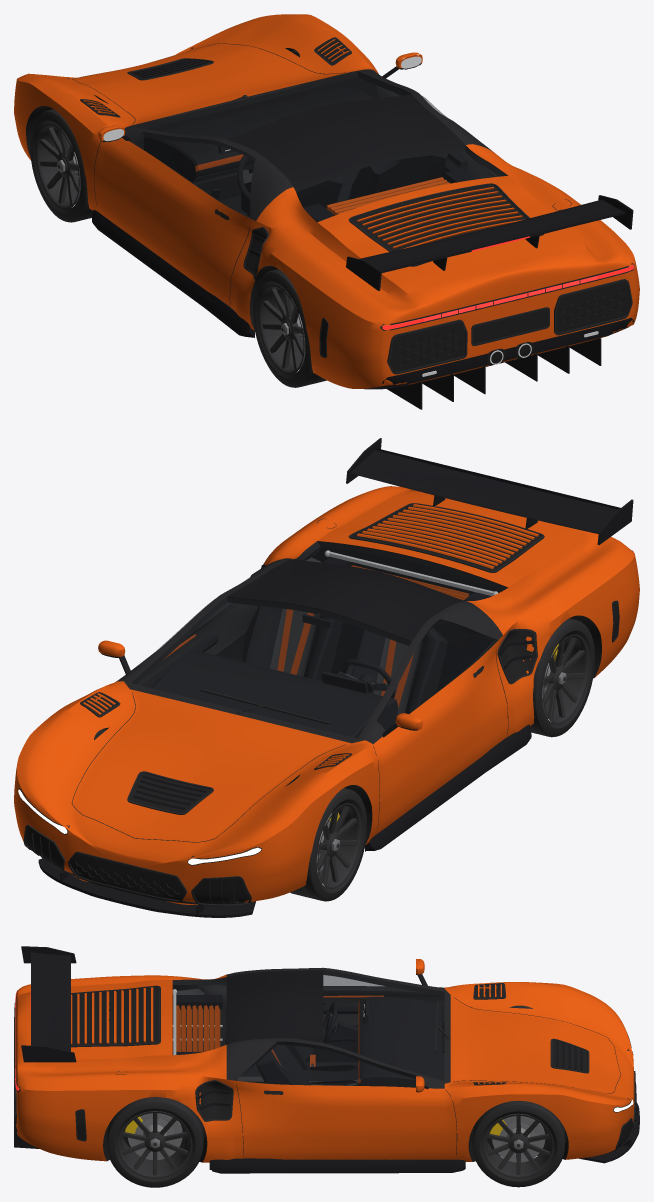
Rendered from vortex_x.glb.
The picture shows the model from 3 angles, top to bottom: view 1: azimuth 30°, elevation 25°; view 2: azimuth 150°, elevation 25°; view 3: azimuth 270°, elevation 25°; orthographic projection. The views are drawn at different scales.
Visible parts, largest first — view 1: Body, Glass, Interior, Wheel_RL, Wheel_FL, Lights_Tail; view 2: Body, Glass, Interior, Wheel_RL, Wheel_FL, SteeringWheel; view 3: Body, Glass, Interior, Wheel_RR, Wheel_FR, SteeringWheel.
Part boxes in pixels (bbox=[...]): Body: bbox=[14, 14, 639, 409]; Glass: bbox=[133, 72, 505, 221]; Interior: bbox=[136, 77, 498, 216]; Wheel_RL: bbox=[252, 269, 326, 387]; Wheel_FL: bbox=[30, 109, 93, 222]; Lights_Tail: bbox=[382, 265, 633, 329]; Body: bbox=[14, 438, 639, 917]; Glass: bbox=[133, 542, 506, 737]; Interior: bbox=[136, 546, 502, 738]; Wheel_RL: bbox=[530, 618, 594, 737]; Wheel_FL: bbox=[290, 788, 366, 901]; SteeringWheel: bbox=[340, 659, 395, 698]; Body: bbox=[14, 946, 639, 1173]; Glass: bbox=[173, 971, 443, 1087]; Interior: bbox=[172, 982, 444, 1087]; Wheel_RR: bbox=[106, 1097, 203, 1187]; Wheel_FR: bbox=[472, 1100, 564, 1187]; SteeringWheel: bbox=[323, 1001, 337, 1043].
Bounding box in the file's own units: 2.24 × 1.12 × 4.65.
